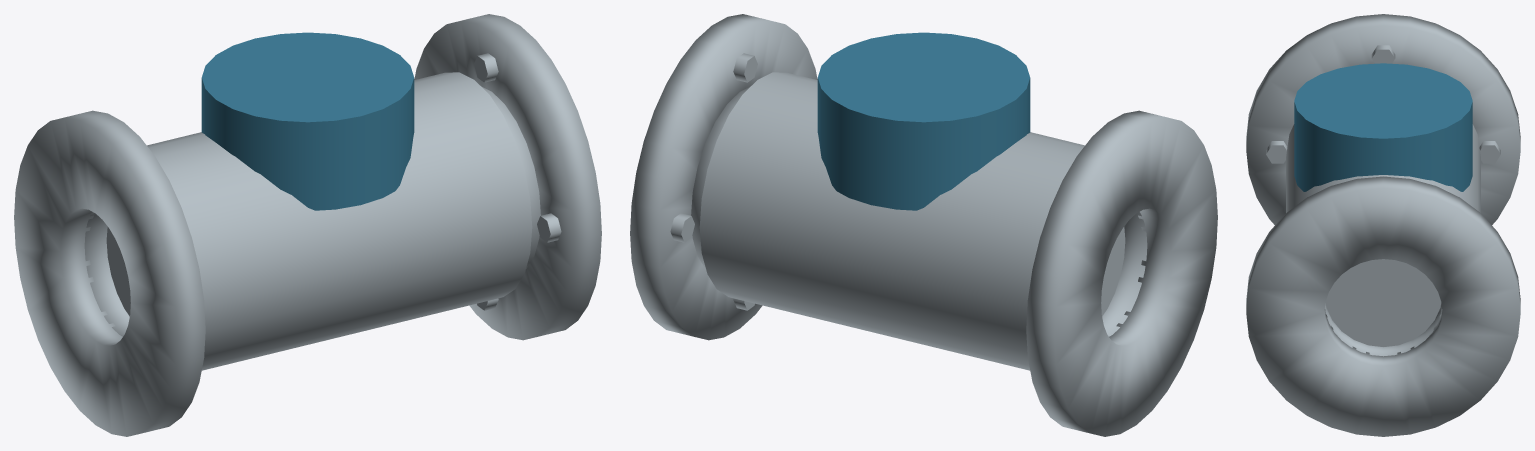
Rendered from SM_Plant_CheckValve.glb.
3 renders of one model, left to right at view 1: azimuth 30°, elevation 25°; view 2: azimuth 150°, elevation 25°; view 3: azimuth 270°, elevation 25°, orthographic. The views are drawn at different scales.
Parts seen in each view (by area): view 1: SM_Plant_CheckValve; view 2: SM_Plant_CheckValve; view 3: SM_Plant_CheckValve.
Part boxes in pixels (x1,y1,x2,y2): SM_Plant_CheckValve: (14,14,601,436); SM_Plant_CheckValve: (630,14,1217,436); SM_Plant_CheckValve: (1246,14,1520,436).
Size of the model in its own units: 0.3 by 0.2 by 0.2.
